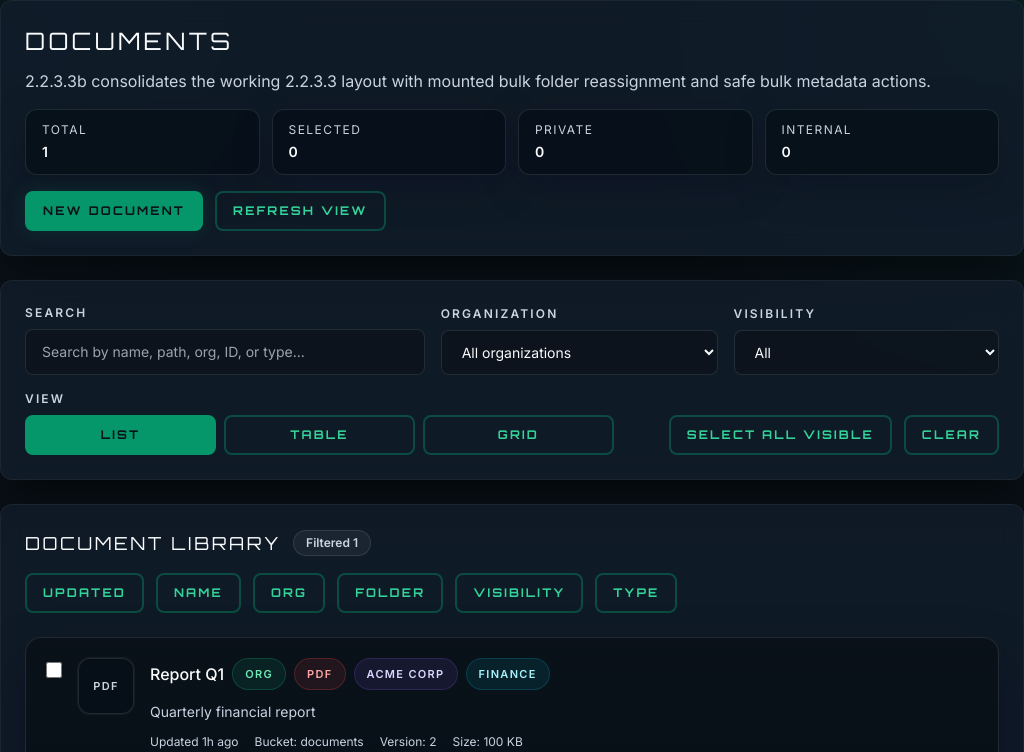
AdminDocumentsCenterClient › inline rename › switches to input on click
Click the button "Report Q1" at x=187, y=674, box x1=150 y1=662 x2=224 y2=686
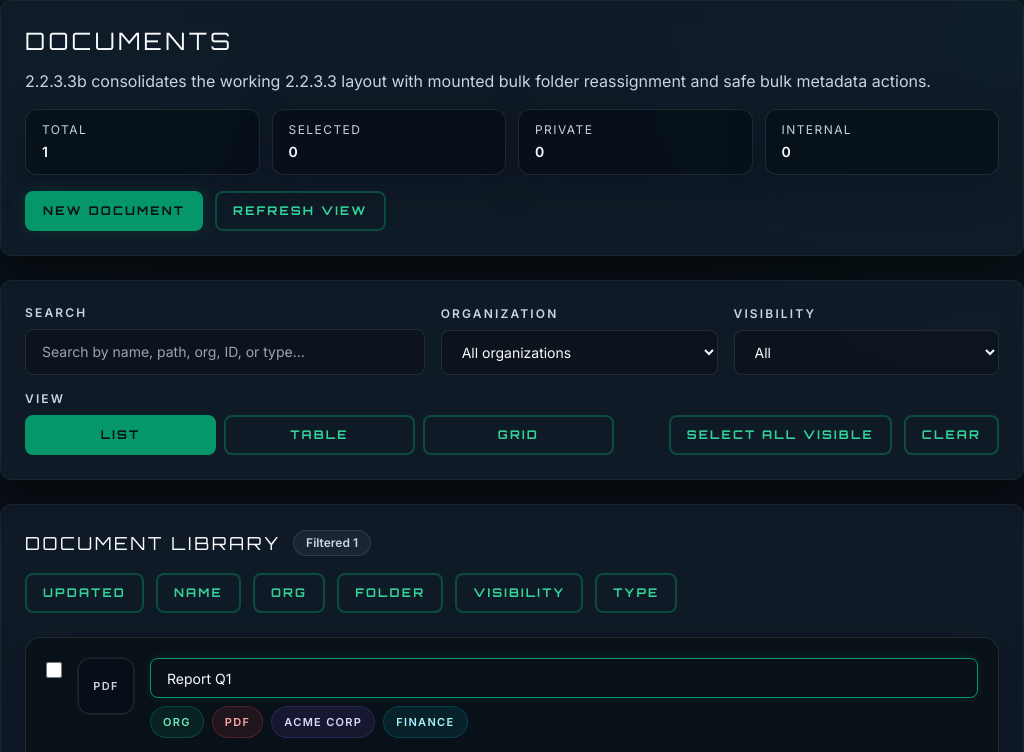
Expected: the field named "Rename document" is shown, x1=150 y1=658 x2=978 y2=698
